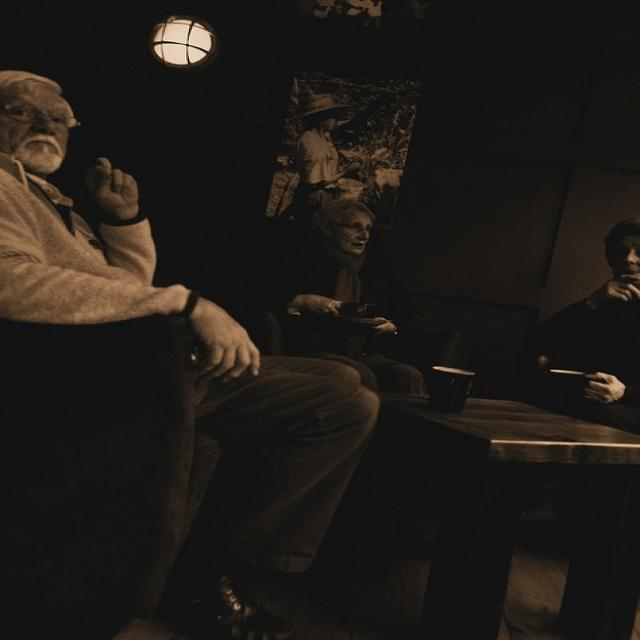People: (0, 84, 171, 499), (238, 197, 392, 439), (585, 177, 640, 378)
Table: (414, 360, 640, 640)
